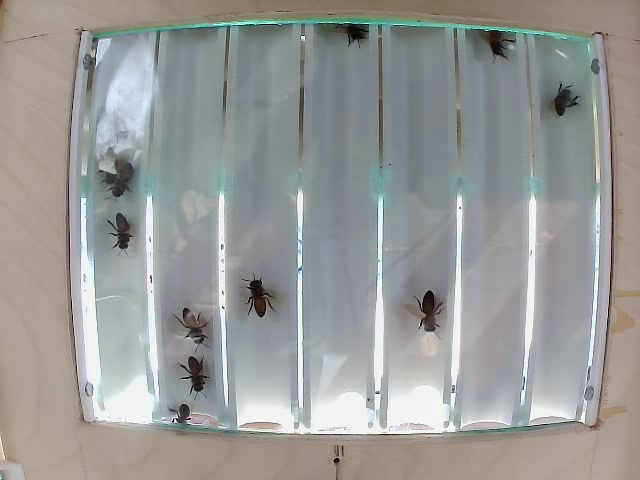bee: (104, 209, 136, 260), (411, 291, 441, 343), (549, 86, 583, 129), (180, 346, 213, 390), (479, 25, 513, 66), (181, 299, 212, 342), (243, 279, 269, 322), (107, 164, 138, 199), (167, 396, 195, 420)
